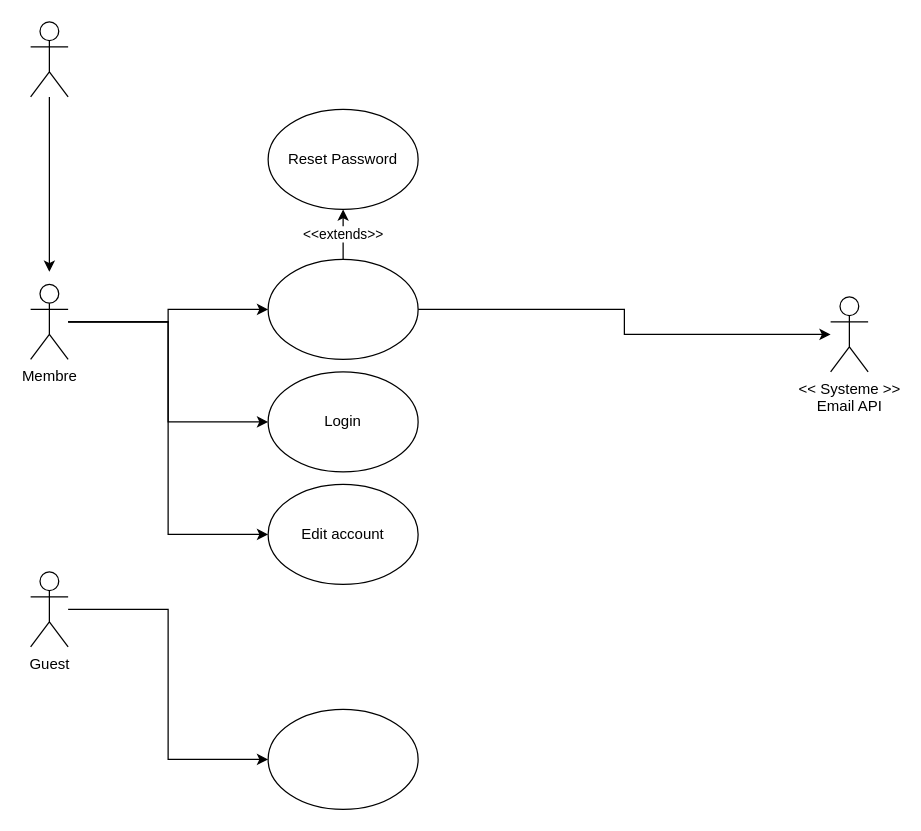
This 921x831 diagram has some shape labels left out. The shapes that lost their labels are listed below. From the top down, each one's centre as x and y in pixels, then its label:
At (48,59): "Editor".
At (342,308): "Forgot Password".
At (342,758): "Register".
